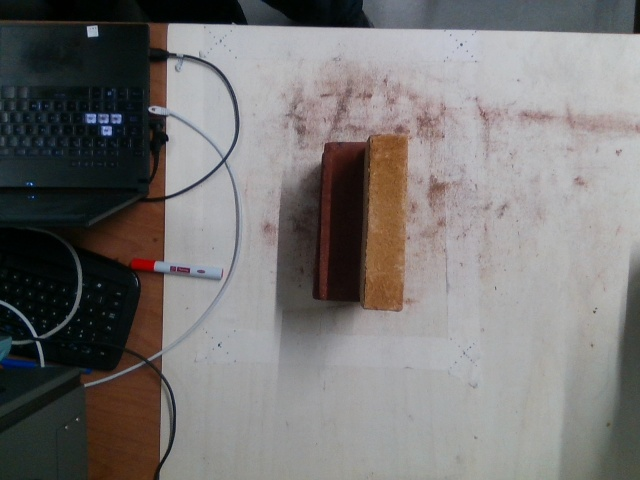brick-side: (366, 136, 406, 311)
